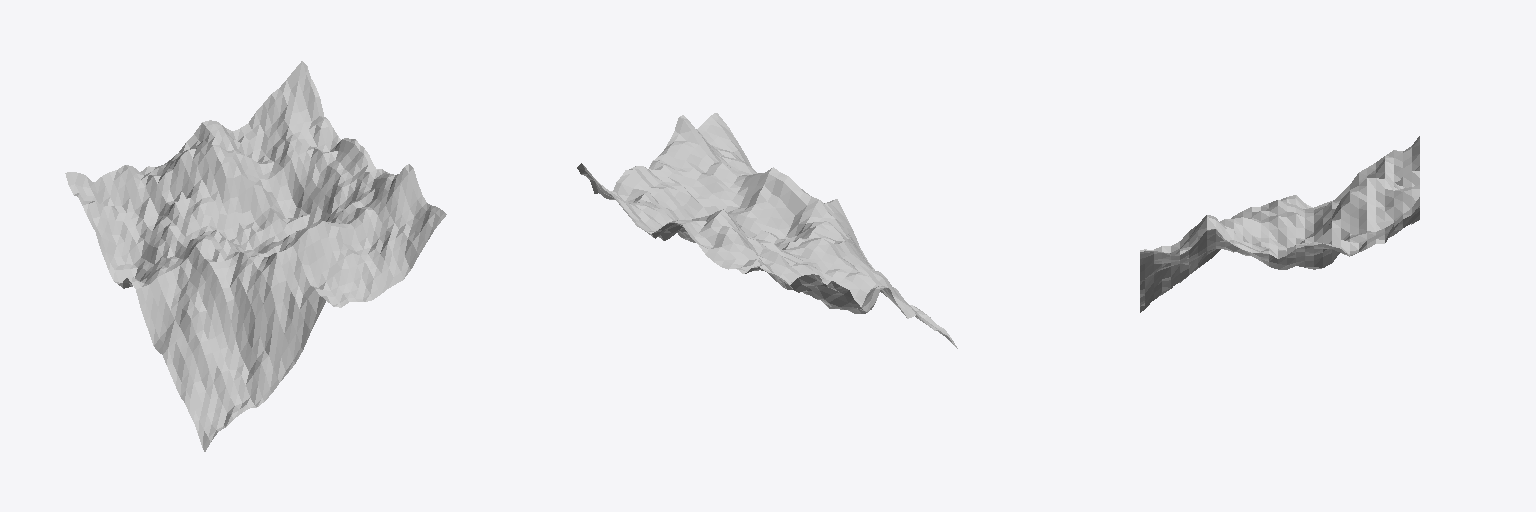
Rendered from terrain_-2_1.obj.
3 renders of one model, left to right at view 1: azimuth 30°, elevation 25°; view 2: azimuth 150°, elevation 25°; view 3: azimuth 270°, elevation 25°, orthographic.
Parts seen in each view (by area): view 1: terrain_-2_1_Plane.071; view 2: terrain_-2_1_Plane.071; view 3: terrain_-2_1_Plane.071.
Part boxes in pixels (left/top/right/bottom): terrain_-2_1_Plane.071: left=65, top=61, right=446, bottom=451; terrain_-2_1_Plane.071: left=577, top=113, right=957, bottom=348; terrain_-2_1_Plane.071: left=1140, top=136, right=1419, bottom=312.
Bounding box in the file's own units: 32 × 29.3 × 32.